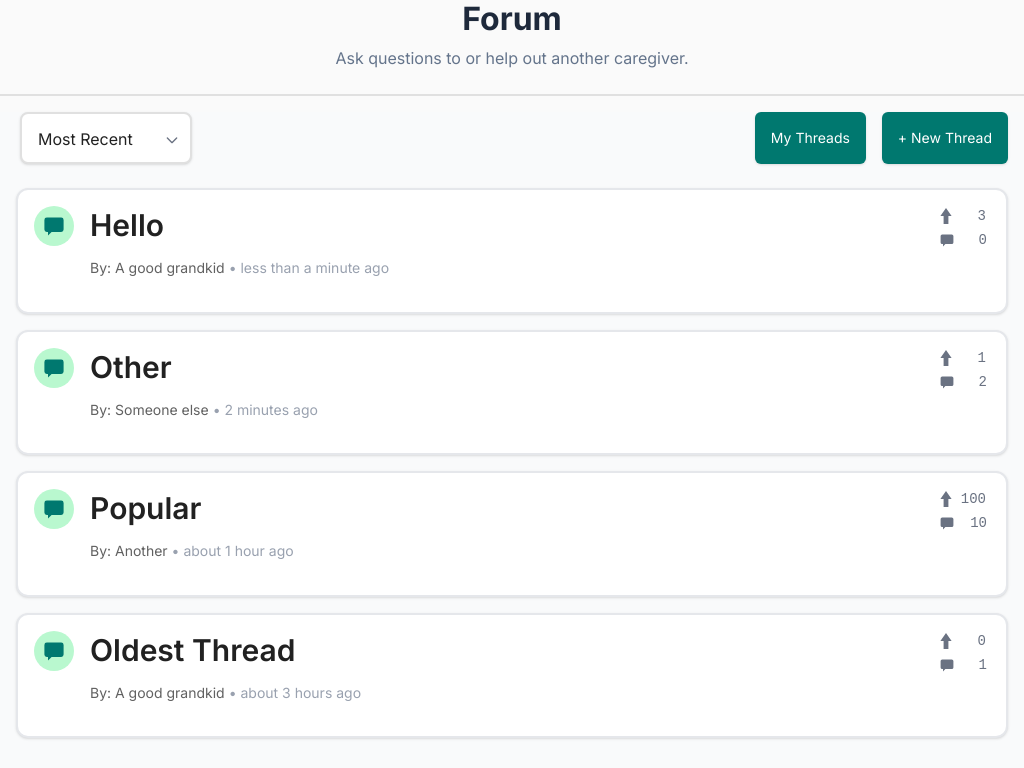
Forum: UI test cases › validates form when empty
The image size is (1024, 768).
Expected: the heading "Hello" is shown, top-left (90, 207), bottom-right (164, 243)
Click the button "+ New Thread".
click(945, 138)  # box top-left (882, 112), bottom-right (1008, 164)
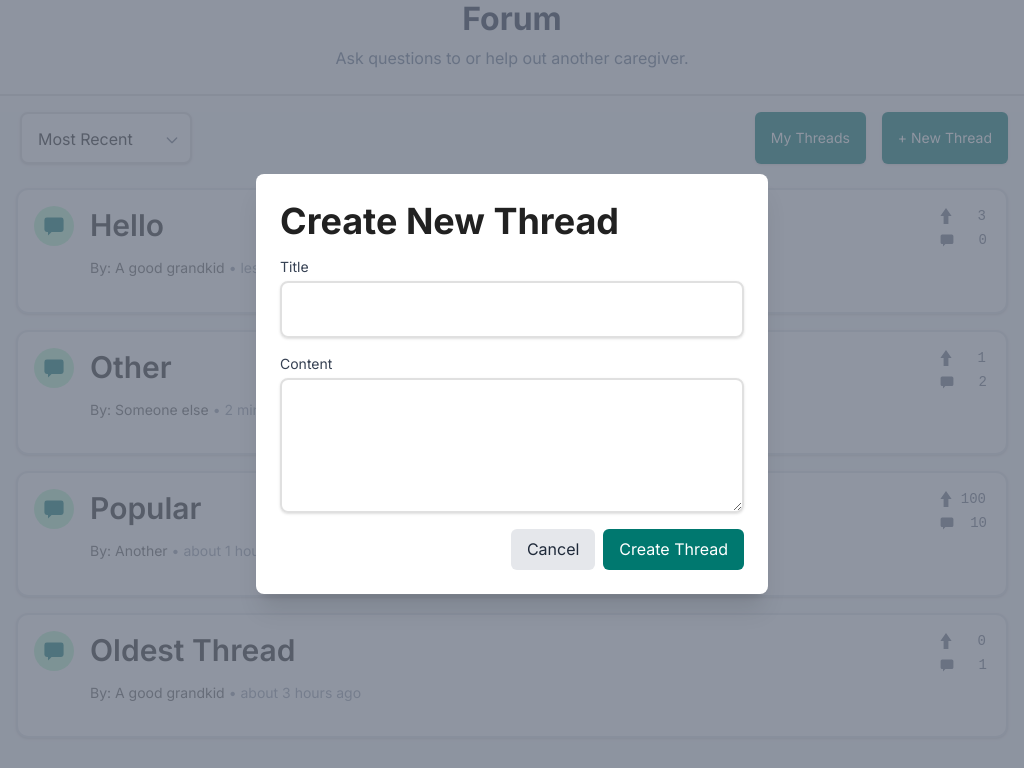
Click the button "Create Thread".
click(674, 549)  # box top-left (603, 529), bottom-right (744, 570)
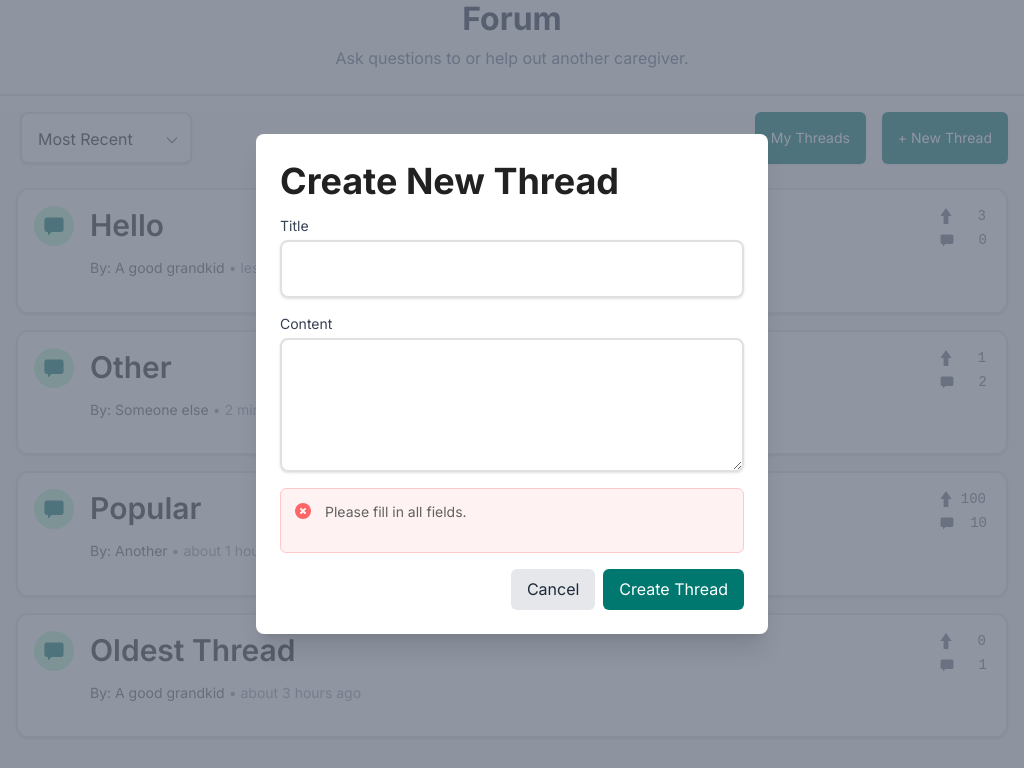
Expected: the text "Please fill in all fields." is shown, top-left (325, 501), bottom-right (467, 524)
